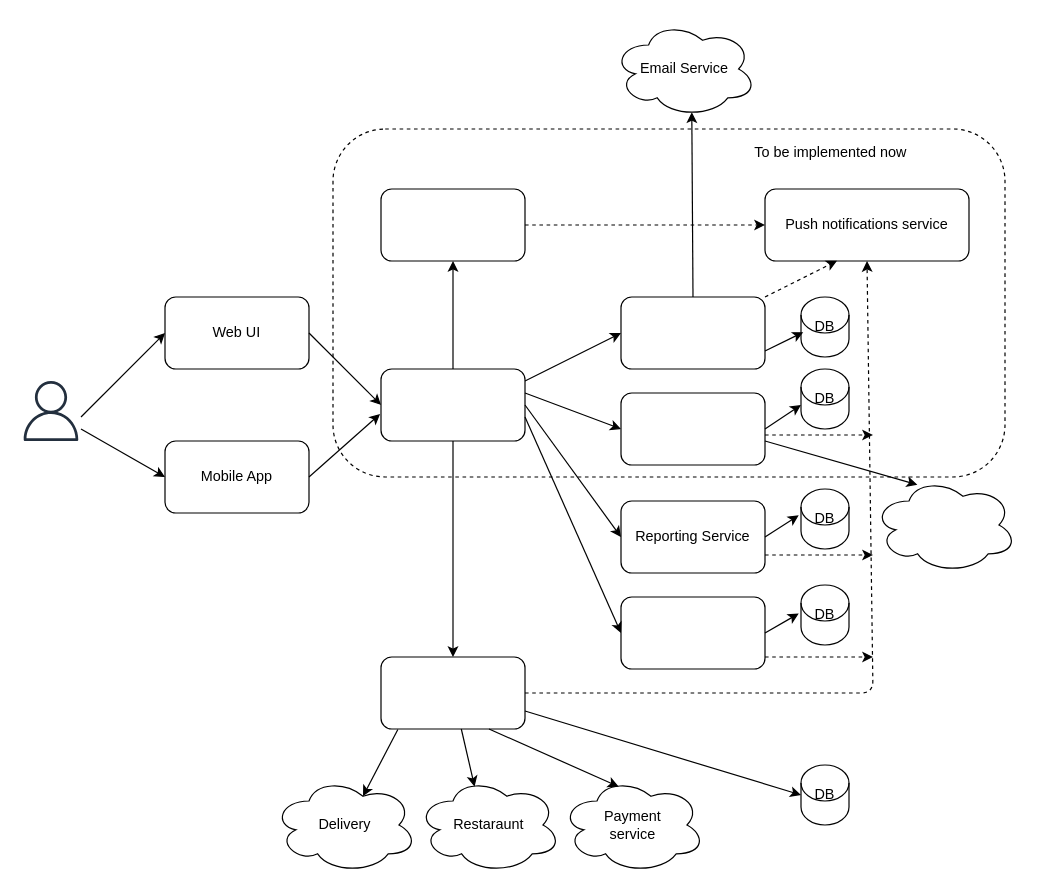
The diagram is 1038 pixels wide and 894 high, and some of its shapes have lost their labels. Here are the shapes that lost their labels. From the top down, the centre of each, then its label:
At [452,224]: "Authentication service".
At [692,332]: "User service".
At [452,404]: "API Gateway".
At [692,428]: "Calories records service".
At [944,524]: "Calories Provider".
At [692,632]: "Activities Tracking service".
At [452,692]: "Orders service".
